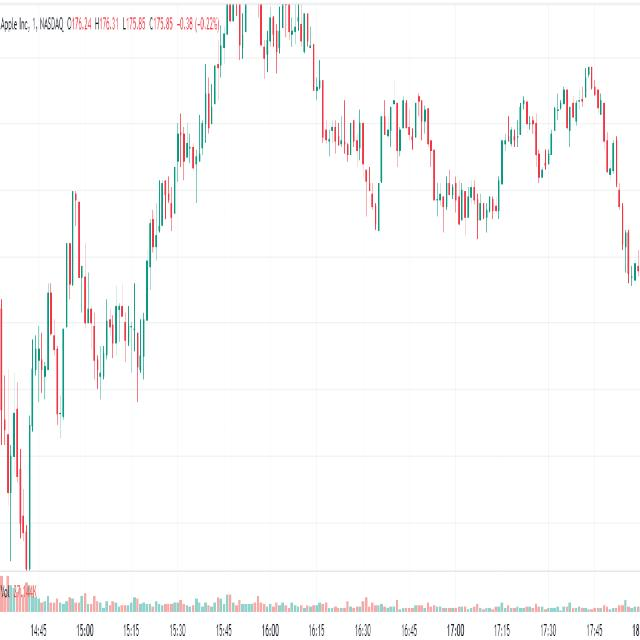Rounding-Top: (201, 0, 331, 185)
